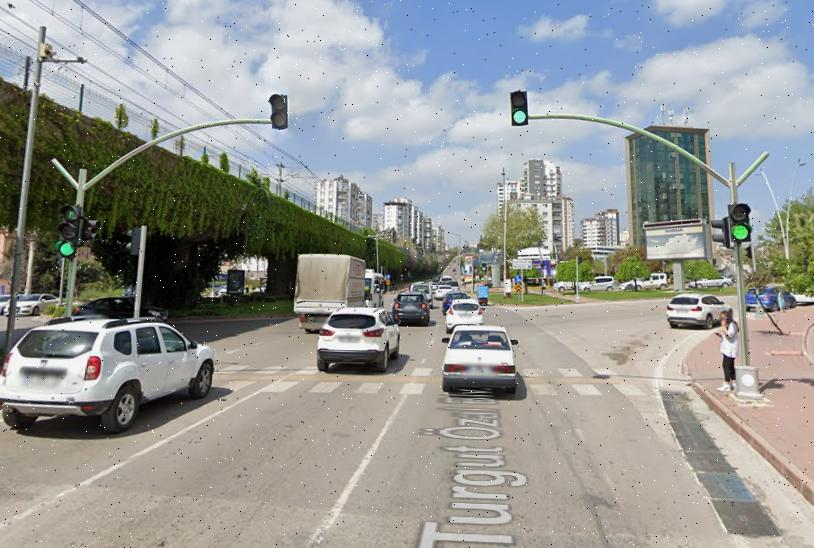greenlight: (59, 204, 81, 258), (727, 202, 751, 241), (510, 91, 529, 124)
